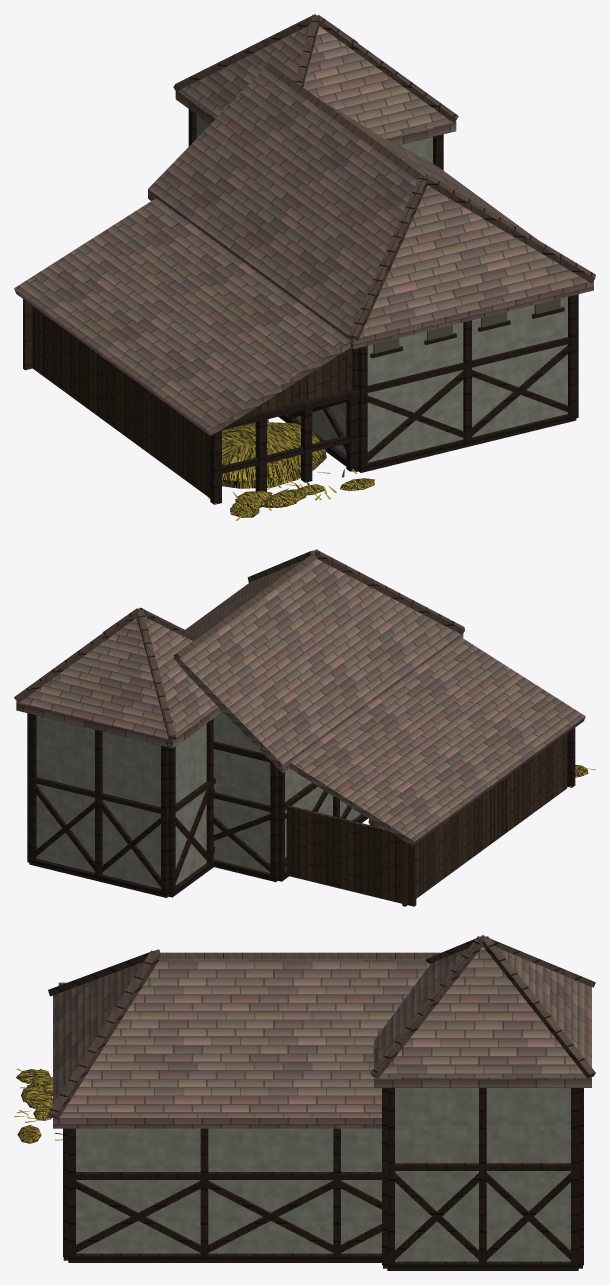
The model's file is Arabuild06.glb.
3 renders of one model, top to bottom at view 1: azimuth 30°, elevation 25°; view 2: azimuth 150°, elevation 25°; view 3: azimuth 270°, elevation 25°, orthographic. The views are drawn at different scales.
Parts seen in each view (by area): view 1: Arabuild06_hwall; view 2: Arabuild06_hwall; view 3: Arabuild06_hwall.
Boxes of the visible parts, x1,y1,x2,y2 form: Arabuild06_hwall: [14, 14, 595, 520]; Arabuild06_hwall: [14, 549, 595, 906]; Arabuild06_hwall: [14, 935, 595, 1270].
Size of the model in its own units: 12.81 by 8.41 by 15.23.
11 materials, 6 textured.
